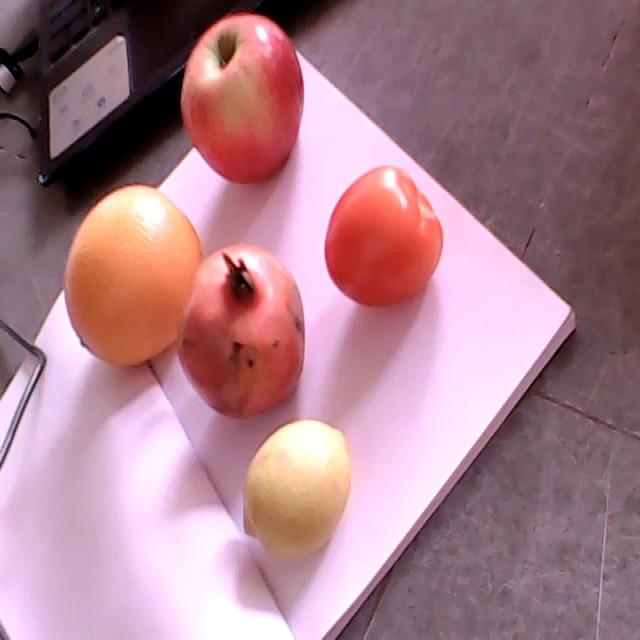apple: (180, 11, 304, 183)
lemon: (243, 419, 353, 564)
orange: (62, 183, 205, 366)
pomegranate: (178, 243, 306, 418)
tomato: (324, 165, 444, 307)
